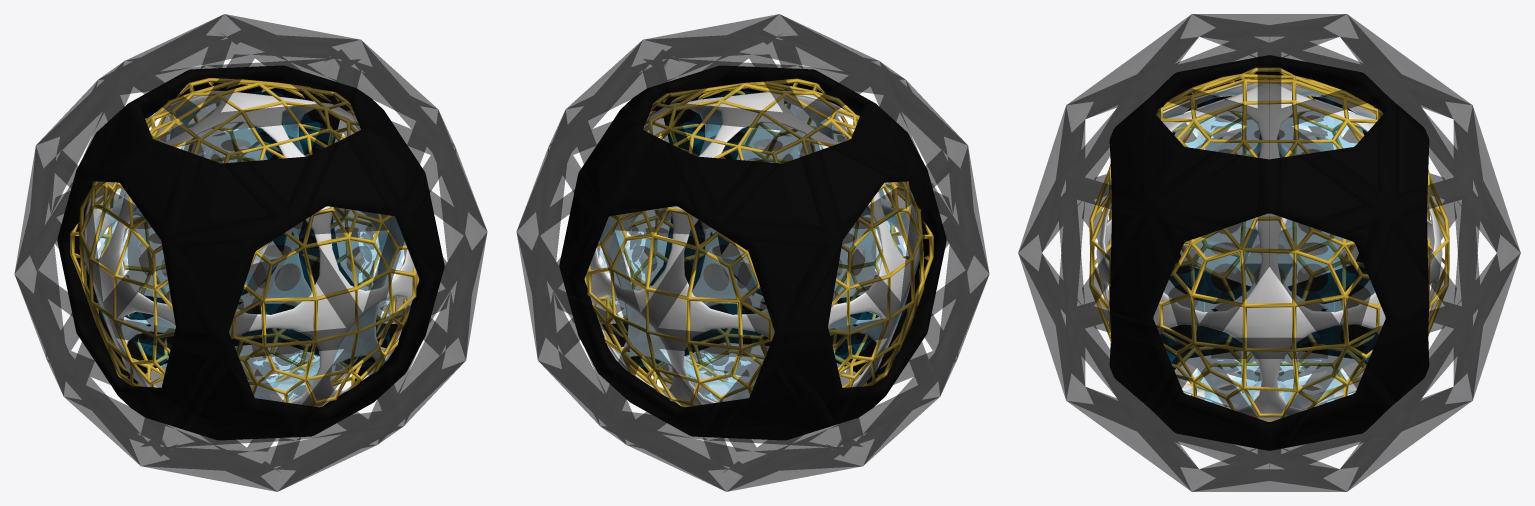
The model's file is abstrart.glb.
3 views of the same model, side by side, from view 1: azimuth 30°, elevation 25°; view 2: azimuth 150°, elevation 25°; view 3: azimuth 270°, elevation 25° (orthographic). The views are drawn at different scales.
Parts seen in each view (by area): view 1: Out_cage_glass_6, inner_Cover_5, Something_Deep_2, Golden_cage_0, Glass_sphere_4, Cage_or_grid_or_whatever_3, Iner_thing_1; view 2: Out_cage_glass_6, inner_Cover_5, Golden_cage_0, Something_Deep_2, Glass_sphere_4, Cage_or_grid_or_whatever_3, Iner_thing_1; view 3: Out_cage_glass_6, inner_Cover_5, Golden_cage_0, Something_Deep_2, Glass_sphere_4, Cage_or_grid_or_whatever_3, Iner_thing_1.
Part boxes in pixels (bbox=[...]): Out_cage_glass_6: bbox=[14, 14, 487, 491]; inner_Cover_5: bbox=[57, 65, 444, 440]; Something_Deep_2: bbox=[83, 90, 416, 406]; Golden_cage_0: bbox=[70, 78, 419, 407]; Glass_sphere_4: bbox=[127, 129, 374, 376]; Cage_or_grid_or_whatever_3: bbox=[96, 91, 405, 401]; Iner_thing_1: bbox=[245, 241, 282, 295]; Out_cage_glass_6: bbox=[516, 14, 989, 491]; inner_Cover_5: bbox=[559, 65, 946, 440]; Golden_cage_0: bbox=[584, 78, 933, 407]; Something_Deep_2: bbox=[587, 90, 919, 406]; Glass_sphere_4: bbox=[629, 129, 876, 376]; Cage_or_grid_or_whatever_3: bbox=[599, 91, 907, 401]; Iner_thing_1: bbox=[720, 243, 756, 295]; Out_cage_glass_6: bbox=[1018, 14, 1520, 491]; inner_Cover_5: bbox=[1109, 55, 1429, 450]; Golden_cage_0: bbox=[1089, 67, 1449, 421]; Something_Deep_2: bbox=[1096, 83, 1442, 420]; Glass_sphere_4: bbox=[1164, 128, 1374, 380]; Cage_or_grid_or_whatever_3: bbox=[1164, 91, 1374, 405]; Iner_thing_1: bbox=[1244, 228, 1293, 280].
Size of the model in its own units: 2.4 by 2.52 by 2.52.
